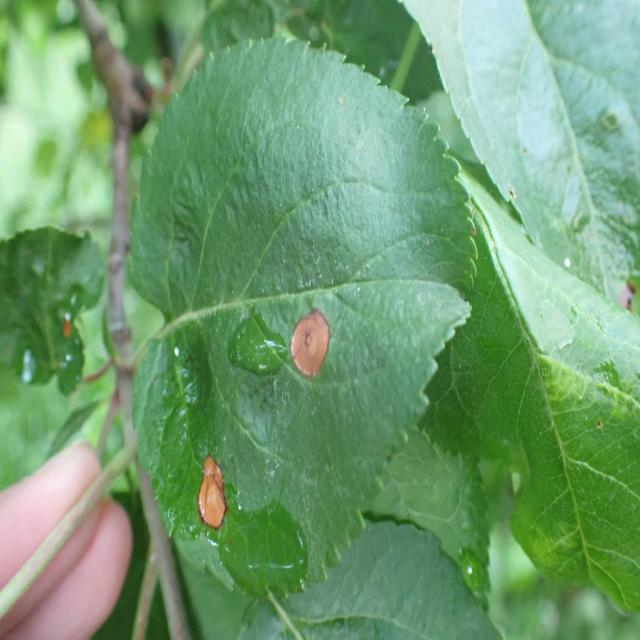Black Rot: (284, 265, 334, 407), (182, 451, 249, 545)
